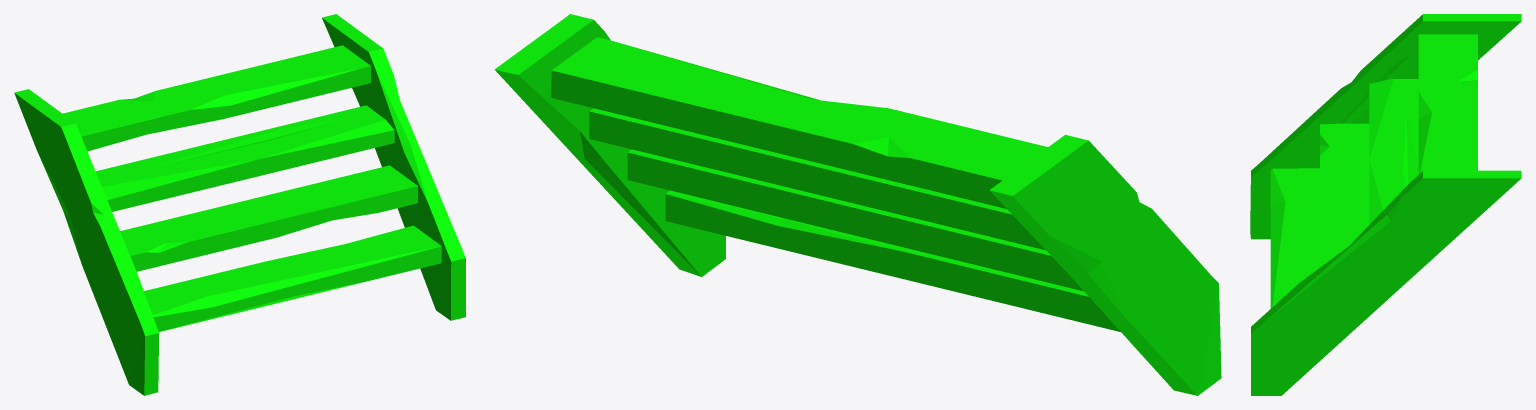
File: SM_Stairs_Wood_Regular_Bottom_2m_Fantasy.fbx
The picture shows the model from 3 angles, left to right: view 1: azimuth 30°, elevation 25°; view 2: azimuth 150°, elevation 25°; view 3: azimuth 270°, elevation 25°; orthographic projection. The views are drawn at different scales.
Visible parts, largest first — view 1: stairs-wood-regular-bottom-2m-fantasy; view 2: stairs-wood-regular-bottom-2m-fantasy; view 3: stairs-wood-regular-bottom-2m-fantasy.
Part boxes in pixels (x1,y1,x2,y2): stairs-wood-regular-bottom-2m-fantasy: (14, 14, 465, 395); stairs-wood-regular-bottom-2m-fantasy: (494, 14, 1221, 395); stairs-wood-regular-bottom-2m-fantasy: (1250, 14, 1521, 395).
Bounding box in the file's own units: 1.97 × 1.22 × 1.38.
